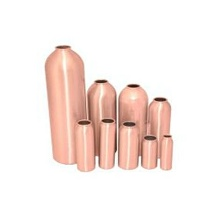bottle: (41, 41, 91, 166), (85, 77, 119, 160), (116, 81, 149, 159), (144, 93, 174, 161), (72, 117, 97, 173), (116, 119, 142, 171), (96, 114, 119, 170), (138, 132, 160, 171), (158, 131, 174, 172)
